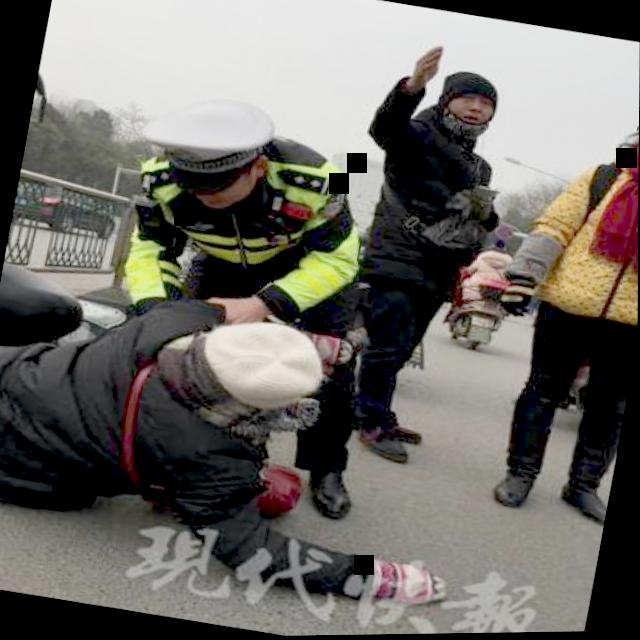Fall-Detected: (0, 253, 504, 620)
